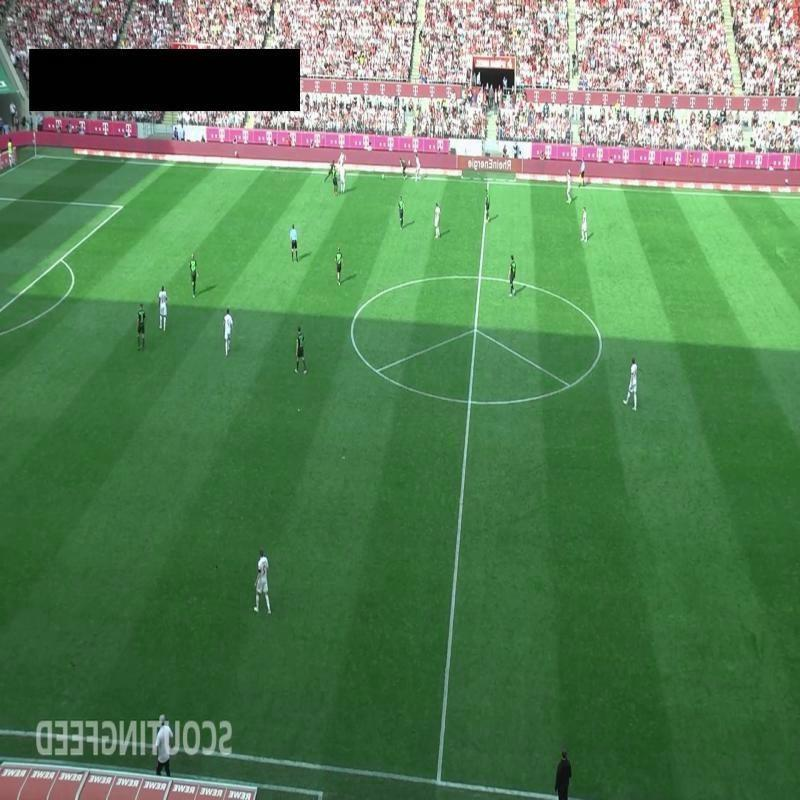1: (30, 148, 44, 162)
10: (53, 253, 68, 266)
13: (480, 174, 494, 188)
14: (472, 272, 486, 286)
15: (464, 394, 478, 408)
16: (429, 773, 447, 792)
9: (115, 200, 129, 214)
c: (594, 336, 609, 350), (346, 314, 360, 328)
